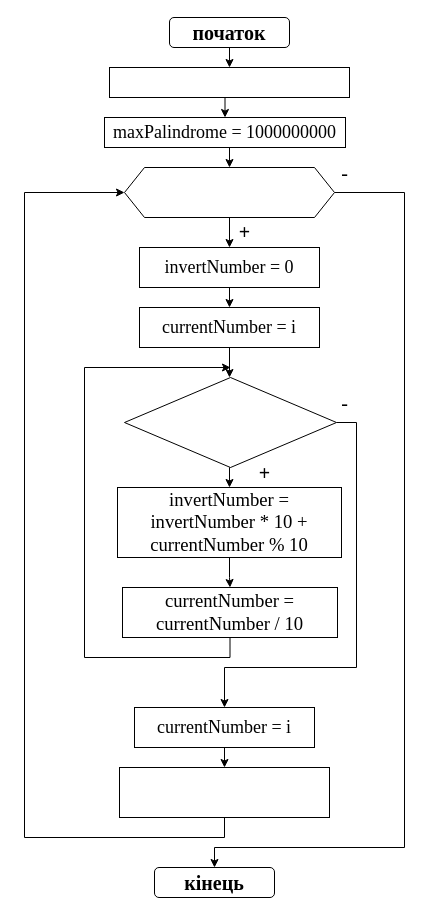
Some shapes in this 430 by 915 pixel diagram are drawn without their labels. Here are the shapes that lost their labels. From the top down, the box of each, then its label:
(108, 66, 350, 98): minPalindrome = 1000000
(124, 166, 334, 218): i = minPalindrome, maxPalindrome, 1
(124, 376, 336, 468): currentNumber > 0
(118, 766, 330, 818): Деталізаця розгалуження
